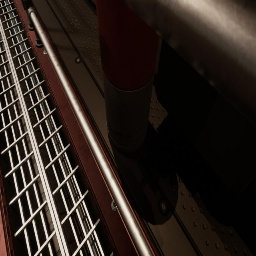NitrogenTank ,: (96, 0, 159, 153)
